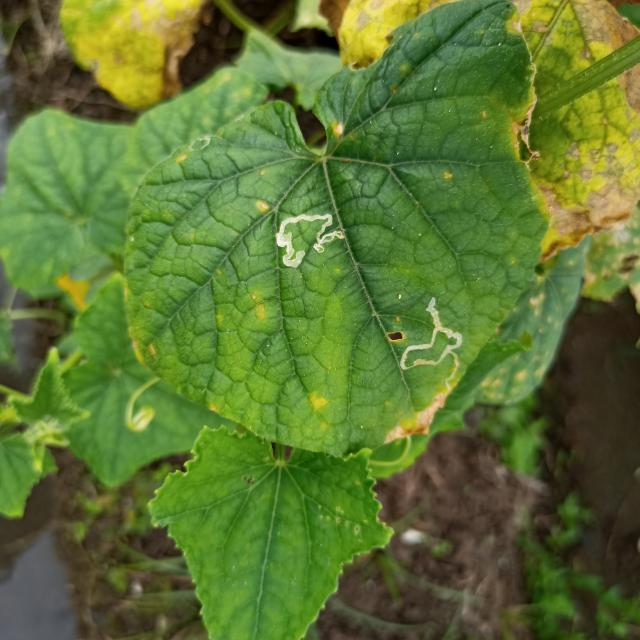disease_cucumber: (126, 326, 156, 368), (308, 392, 332, 428), (246, 295, 270, 323), (256, 197, 270, 219), (171, 152, 189, 166), (436, 170, 455, 181), (334, 121, 344, 141)
